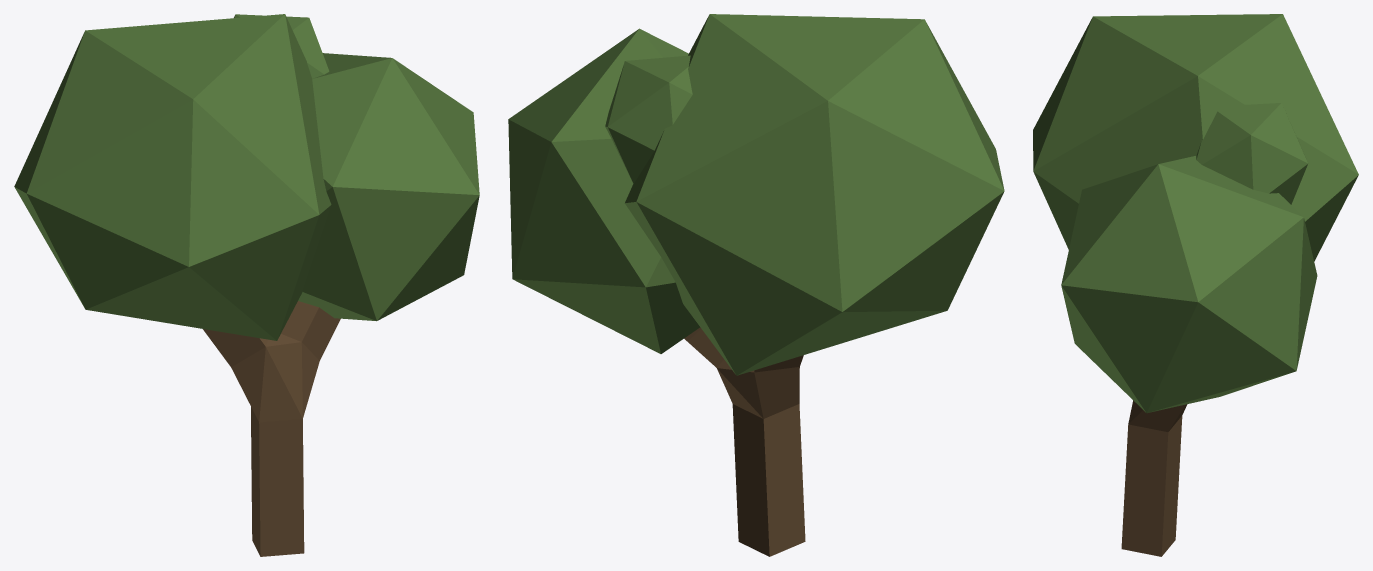
The model's file is moyen_chene.fbx.
3 views of the same model, side by side, from view 1: azimuth 30°, elevation 25°; view 2: azimuth 150°, elevation 25°; view 3: azimuth 270°, elevation 25° (orthographic). The views are drawn at different scales.
Visible parts, largest first — view 1: Plan.002; view 2: Plan.002; view 3: Plan.002.
Part boxes in pixels (x1,y1,x2,y2): Plan.002: (14,14,479,556); Plan.002: (508,14,1004,556); Plan.002: (1033,14,1358,556).
Size of the model in its own units: 741 by 787 by 480.
